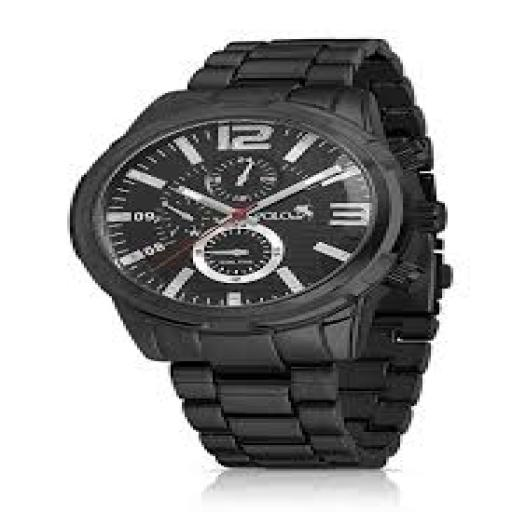KolSaati: (62, 16, 491, 488)
